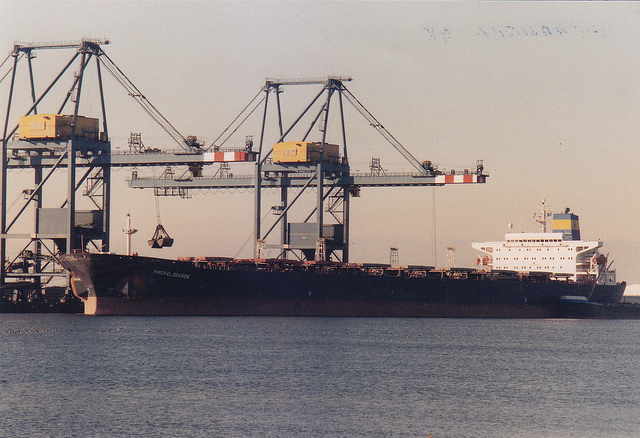bulk carrier: (64, 202, 600, 327)
